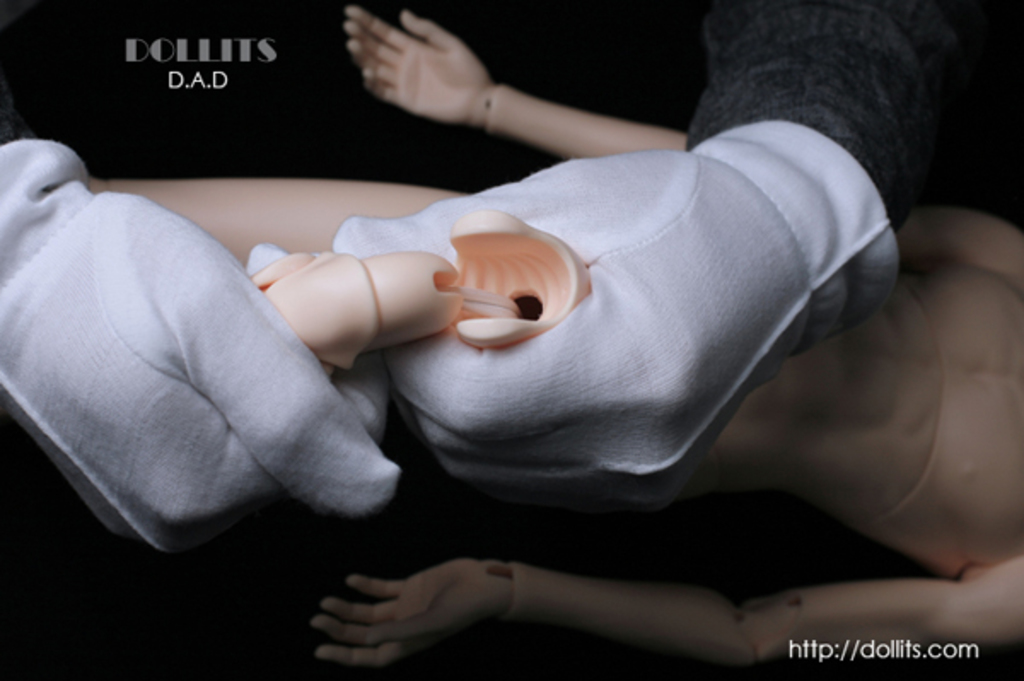Human_hand: (328, 143, 821, 517), (0, 166, 403, 556), (312, 555, 509, 672), (343, 0, 493, 126)
